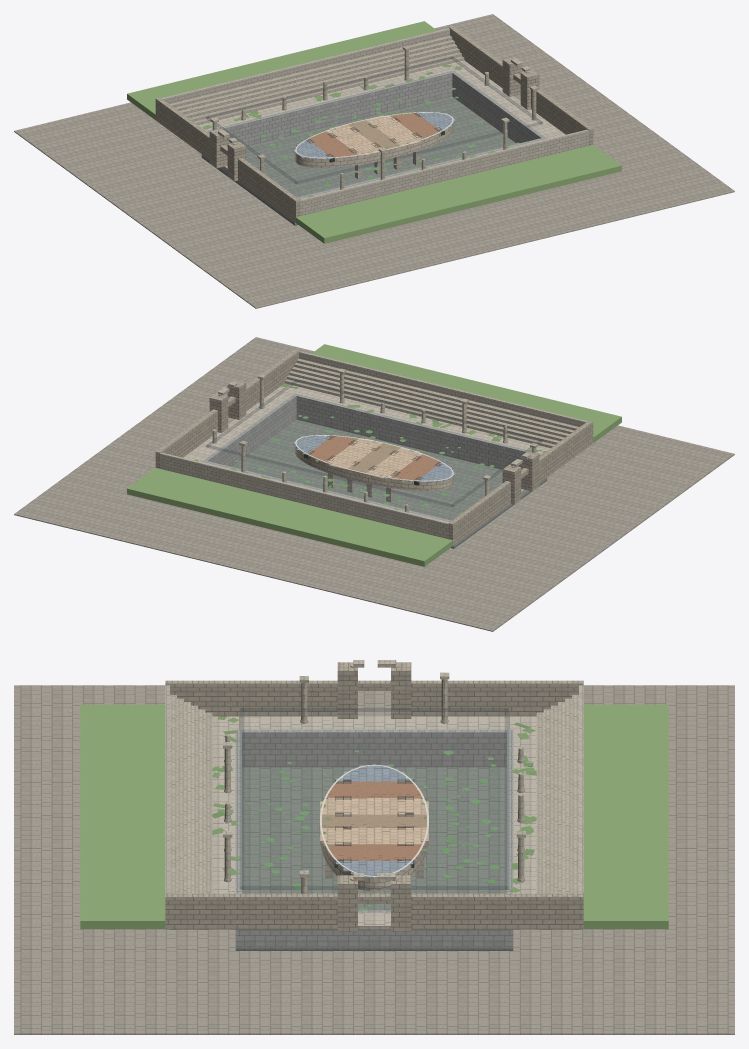
The model's file is arena_14x34.gltf.
The picture shows the model from 3 angles, top to bottom: view 1: azimuth 30°, elevation 25°; view 2: azimuth 150°, elevation 25°; view 3: azimuth 270°, elevation 25°; orthographic projection. The views are drawn at different scales.
Visible parts, largest first — view 1: walk, grass, tank, end_walls, tiers, floor, back, rim, face, columns, deck_s1_z1, deck_s0_z1 (+6 smaller); view 2: walk, grass, tank, end_walls, tiers, floor, back, rim, face, columns, deck_s1_z1, deck_s0_z1 (+6 smaller); view 3: walk, grass, end_walls, floor, tank, tiers, rim, columns, back, deck_s1_z1, deck_s0_z1, lilies (+9 smaller).
Part boxes in pixels (left/top/right/bottom): walk: left=14, top=14, right=734, bottom=308; grass: left=127, top=21, right=621, bottom=243; tank: left=201, top=70, right=546, bottom=223; end_walls: left=155, top=26, right=593, bottom=222; tiers: left=169, top=36, right=464, bottom=125; floor: left=201, top=96, right=515, bottom=225; back: left=161, top=28, right=588, bottom=216; rim: left=206, top=57, right=542, bottom=183; face: left=295, top=116, right=453, bottom=167; columns: left=210, top=45, right=538, bottom=189; deck_s1_z1: left=366, top=115, right=421, bottom=146; deck_s0_z1: left=327, top=124, right=380, bottom=155; walk: left=14, top=337, right=734, bottom=631; grass: left=127, top=344, right=621, bottom=566; tank: left=202, top=393, right=547, bottom=546; end_walls: left=155, top=349, right=593, bottom=545; tiers: left=284, top=359, right=579, bottom=448; floor: left=232, top=419, right=547, bottom=548; back: left=160, top=351, right=587, bottom=539; rim: left=206, top=380, right=542, bottom=506; face: left=295, top=439, right=453, bottom=490; columns: left=212, top=368, right=538, bottom=512; deck_s1_z1: left=327, top=438, right=382, bottom=469; deck_s0_z1: left=365, top=447, right=421, bottom=478; walk: left=14, top=685, right=734, bottom=1034; grass: left=80, top=704, right=668, bottom=929; end_walls: left=165, top=662, right=583, bottom=931; floor: left=235, top=767, right=513, bottom=950; tank: left=235, top=729, right=513, bottom=948; tiers: left=170, top=695, right=578, bottom=929; rim: left=240, top=708, right=508, bottom=889; columns: left=223, top=672, right=525, bottom=893; back: left=165, top=685, right=583, bottom=893; deck_s1_z1: left=320, top=827, right=428, bottom=844; deck_s0_z1: left=320, top=798, right=428, bottom=814; lilies: left=247, top=750, right=499, bottom=910.
Bounding box in the file's own units: 106 × 13.05 × 92.4.
Materials: 21 (21 with a texture image).
